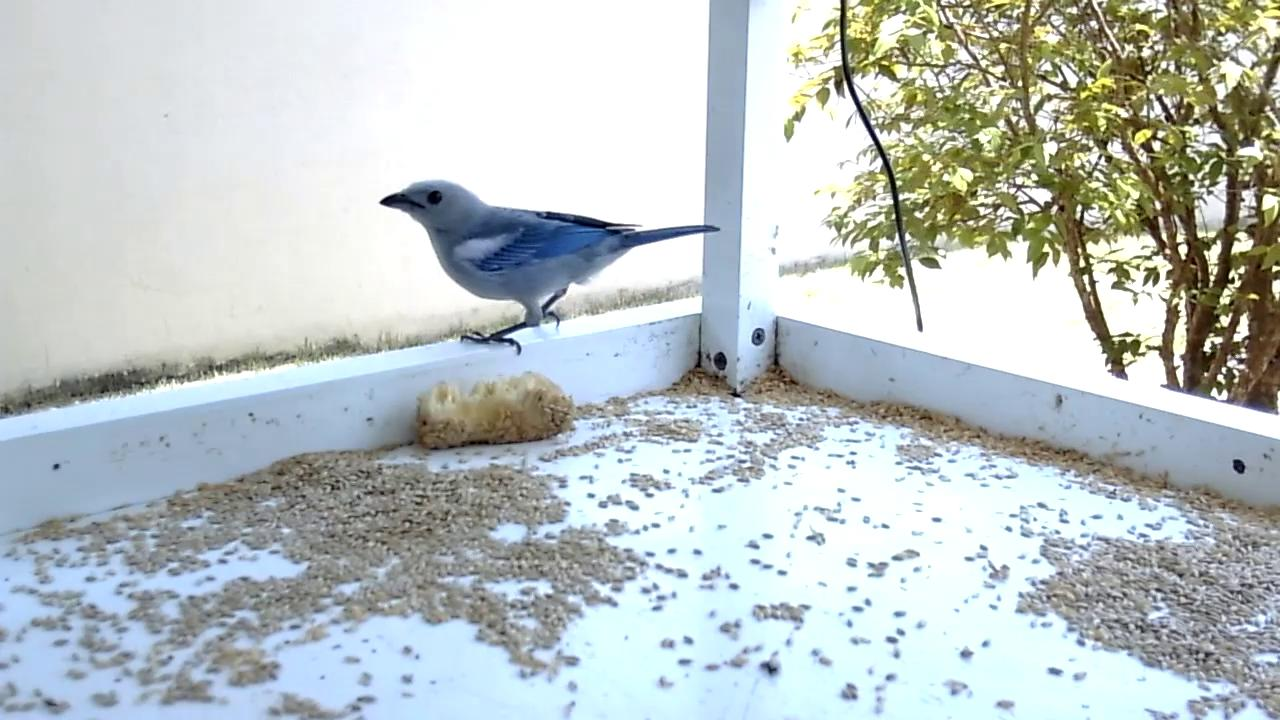sanhaco_da_amazonia: (378, 177, 723, 358)
